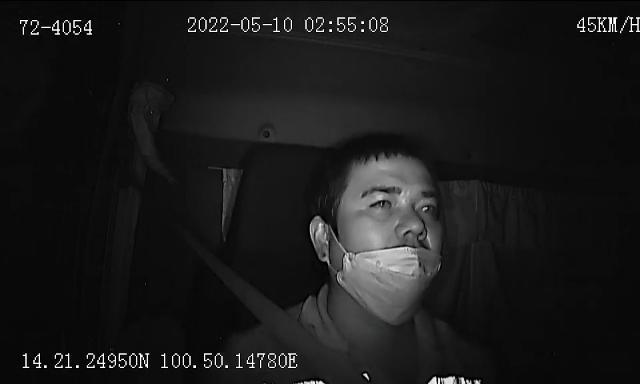SafeDriving: (364, 191, 399, 216), (412, 193, 442, 218)
Seatbelt: (163, 204, 343, 384)
